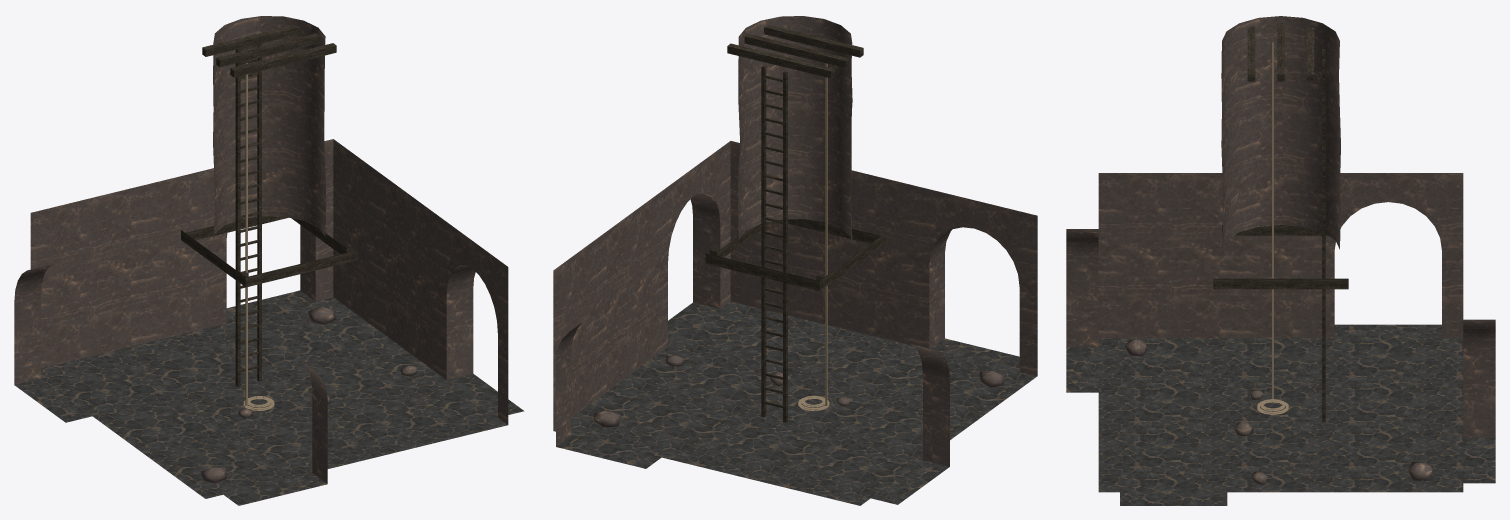
File: extraction-shaft.d17ff184.gltf
The picture shows the model from 3 angles, left to right: view 1: azimuth 30°, elevation 25°; view 2: azimuth 150°, elevation 25°; view 3: azimuth 270°, elevation 25°; orthographic projection. The views are drawn at different scales.
Visible parts, largest first — view 1: extraction-shaft-mesh, extraction-shaft-way-out; view 2: extraction-shaft-mesh, extraction-shaft-way-out; view 3: extraction-shaft-mesh, extraction-shaft-way-out.
Part boxes in pixels (x1=…): extraction-shaft-mesh: x1=14, y1=16, x2=524, y2=505; extraction-shaft-way-out: x1=181, y1=25, x2=357, y2=410; extraction-shaft-mesh: x1=553, y1=16, x2=1037, y2=505; extraction-shaft-way-out: x1=705, y1=25, x2=885, y2=422; extraction-shaft-mesh: x1=1066, y1=16, x2=1495, y2=505; extraction-shaft-way-out: x1=1213, y1=23, x2=1348, y2=421.
Size of the model in its own units: 8 by 7.79 by 8.
Materials: 5 (3 with a texture image).
